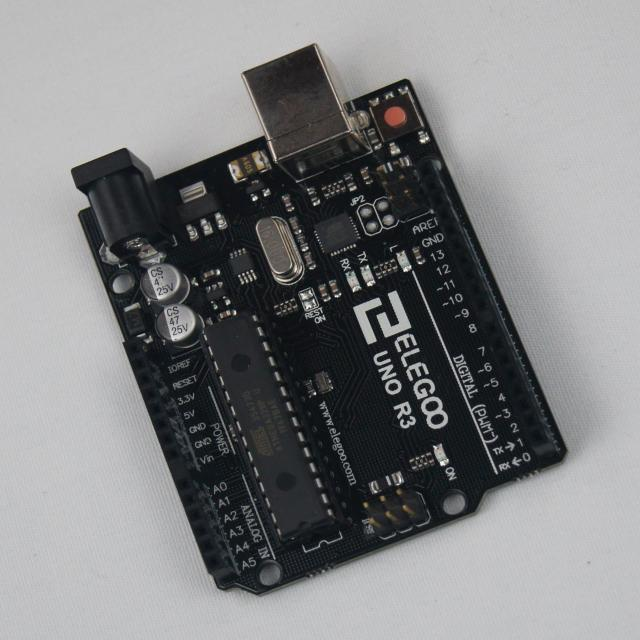Arduino Uno -Black-: (73, 46, 566, 595)
